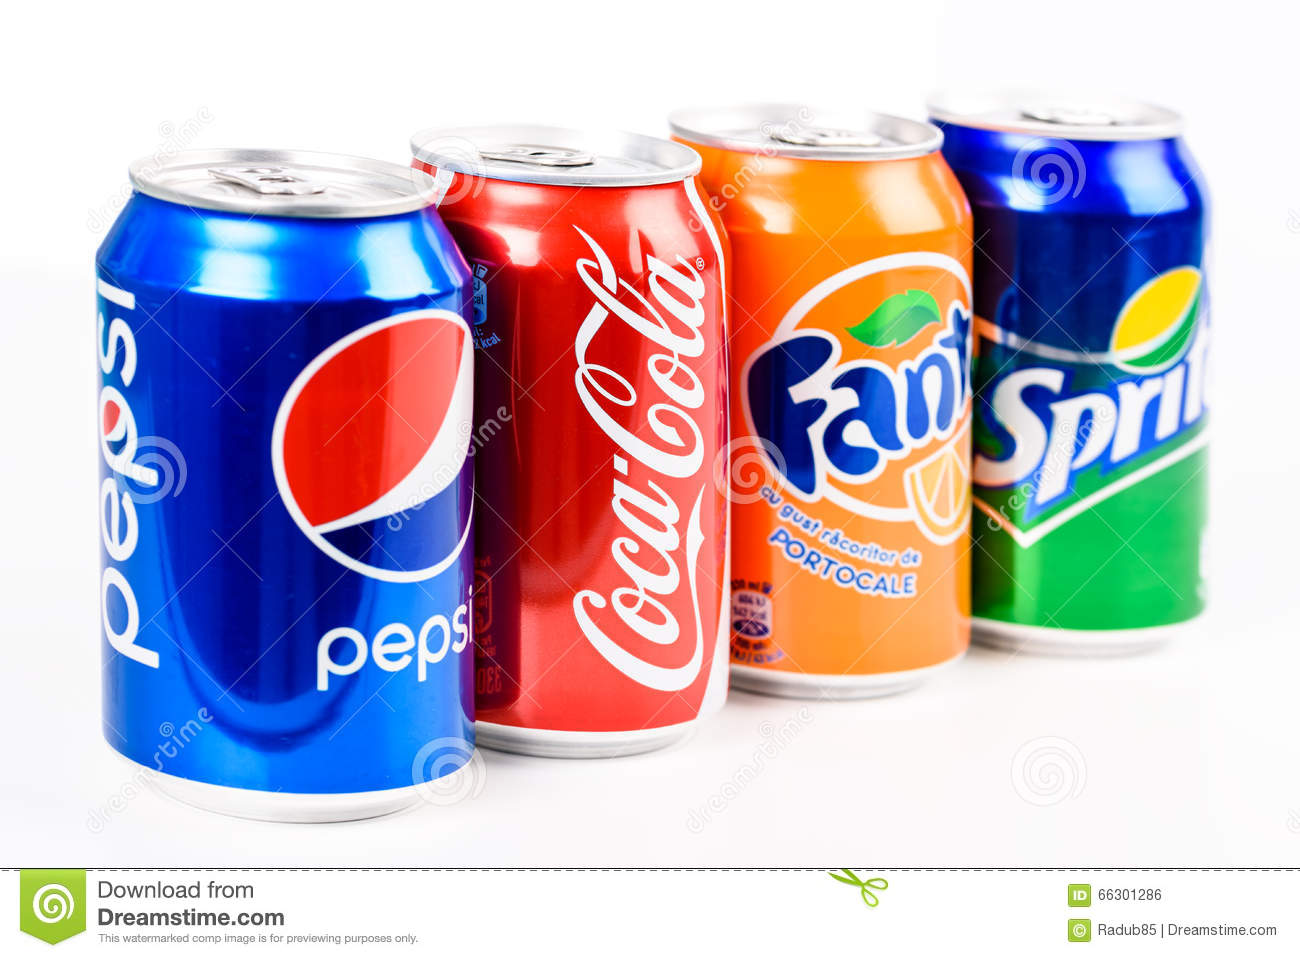fanta: (706, 116, 981, 699)
